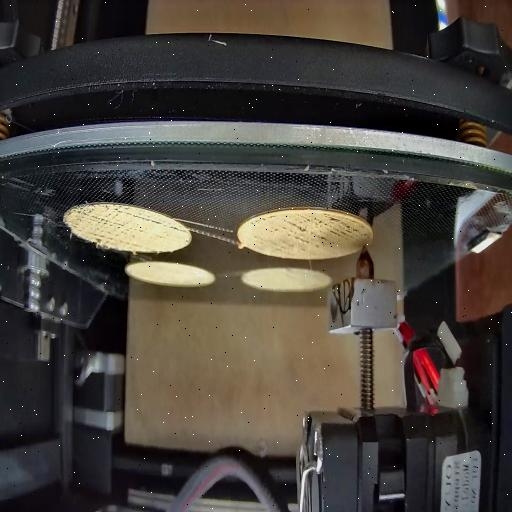under_extrusion: (250, 215, 368, 255), (68, 204, 166, 248), (168, 217, 188, 239)
